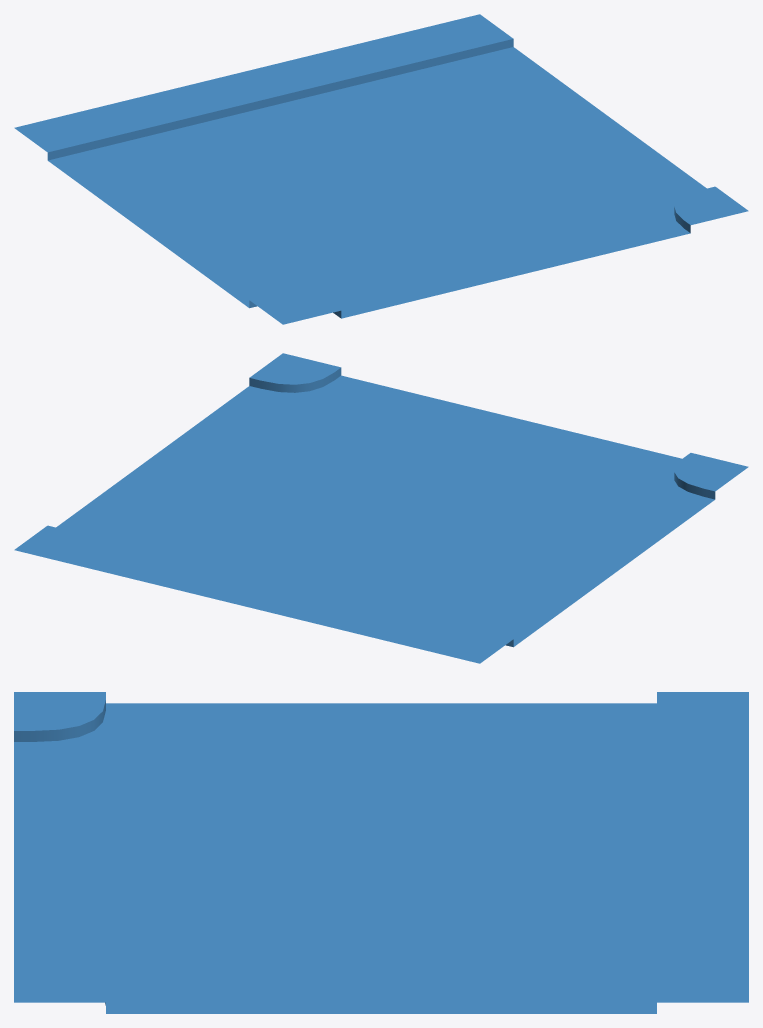
The model's file is Road_3Way_C.fbx.
The picture shows the model from 3 angles, top to bottom: view 1: azimuth 30°, elevation 25°; view 2: azimuth 150°, elevation 25°; view 3: azimuth 270°, elevation 25°; orthographic projection. The views are drawn at different scales.
Visible parts, largest first — view 1: Road_3Way_C; view 2: Road_3Way_C; view 3: Road_3Way_C.
Part boxes in pixels (x1,y1,x2,y2): Road_3Way_C: [14, 14, 748, 324]; Road_3Way_C: [14, 353, 748, 663]; Road_3Way_C: [14, 692, 748, 1013].
Bounding box in the file's own units: 900 × 15 × 900.
